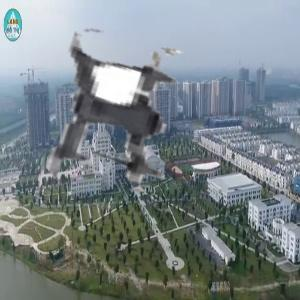drone: (18, 19, 216, 217)
